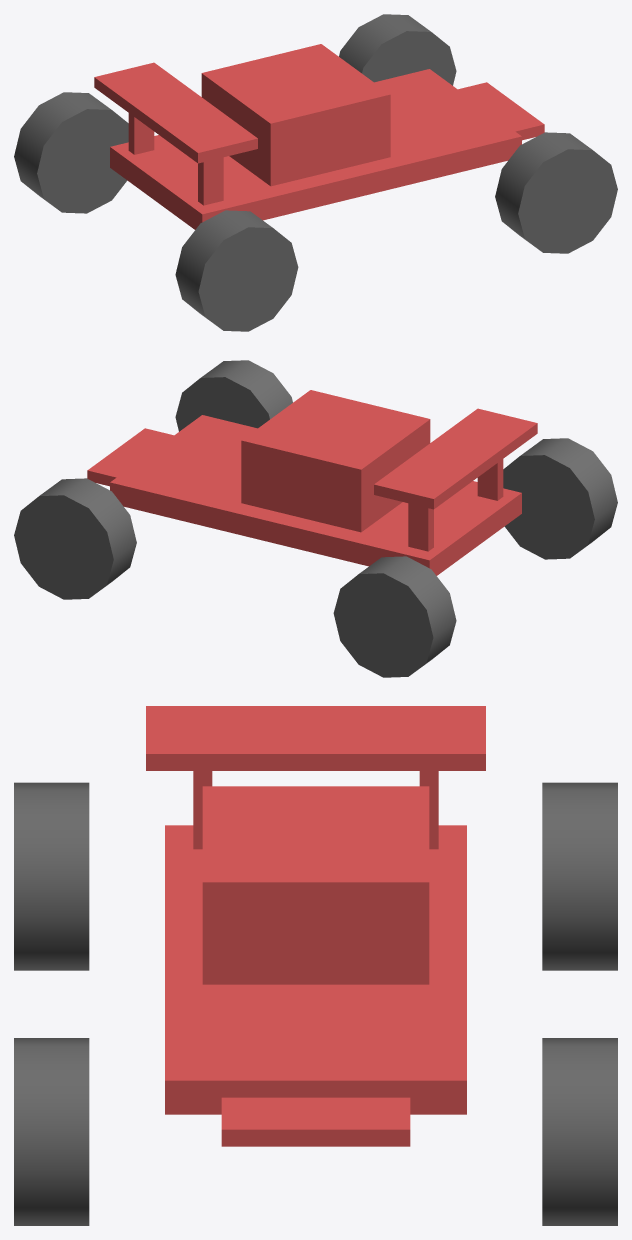
The model's file is SM_Kart.gltf.
3 renders of one model, top to bottom at view 1: azimuth 30°, elevation 25°; view 2: azimuth 150°, elevation 25°; view 3: azimuth 270°, elevation 25°, orthographic. The views are drawn at different scales.
Parts seen in each view (by area): view 1: SM_Kart; view 2: SM_Kart; view 3: SM_Kart.
Boxes of the visible parts, left/top/right/bottom form: SM_Kart: left=14, top=14, right=617, bottom=331; SM_Kart: left=14, top=360, right=617, bottom=677; SM_Kart: left=14, top=706, right=617, bottom=1225.
Bounding box in the file's own units: 2.1 × 0.725 × 1.6.
